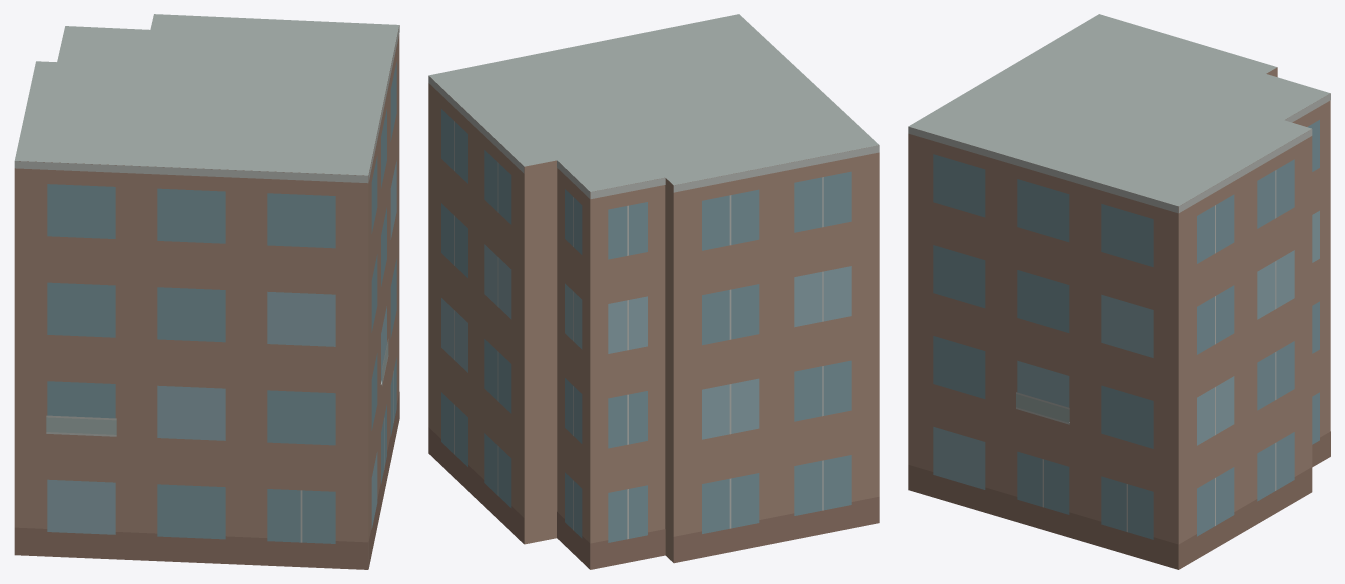
File: survey-upis-32987123.glb
3 views of the same model, side by side, from view 1: azimuth 30°, elevation 25°; view 2: azimuth 150°, elevation 25°; view 3: azimuth 270°, elevation 25° (orthographic). The views are drawn at different scales.
Parts seen in each view (by area): view 1: survey-upis-32987123.tmp; view 2: survey-upis-32987123.tmp; view 3: survey-upis-32987123.tmp.
Boxes of the visible parts, <box> form: survey-upis-32987123.tmp: <box>14,14,399,569</box>; survey-upis-32987123.tmp: <box>428,14,879,569</box>; survey-upis-32987123.tmp: <box>908,14,1330,569</box>.
Bounding box in the file's own units: 14.42 × 12.69 × 13.38.
